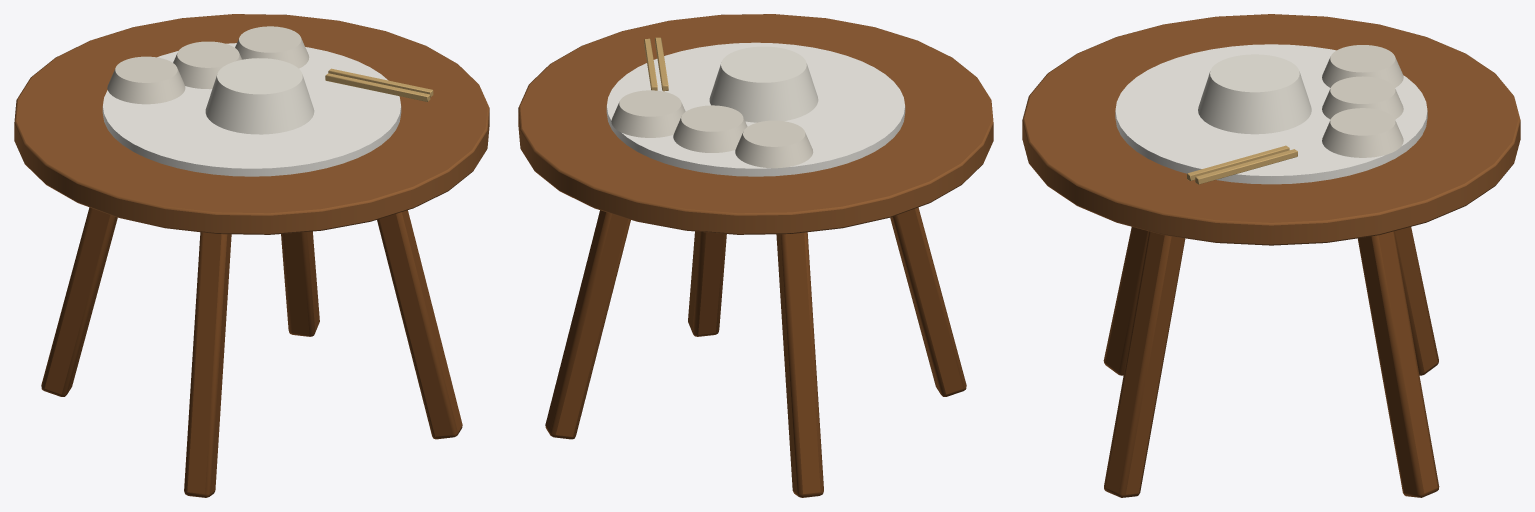
Rendered from BanTron_Thap.glb.
3 renders of one model, left to right at view 1: azimuth 30°, elevation 25°; view 2: azimuth 150°, elevation 25°; view 3: azimuth 270°, elevation 25°, orthographic. The views are drawn at different scales.
Parts seen in each view (by area): view 1: BanTron_Thap; view 2: BanTron_Thap; view 3: BanTron_Thap.
Part boxes in pixels (x1=…): BanTron_Thap: x1=14, y1=14, x2=489, y2=497; BanTron_Thap: x1=518, y1=14, x2=993, y2=497; BanTron_Thap: x1=1022, y1=14, x2=1520, y2=497.
Size of the model in its own units: 0.6 by 0.4777 by 0.6.
